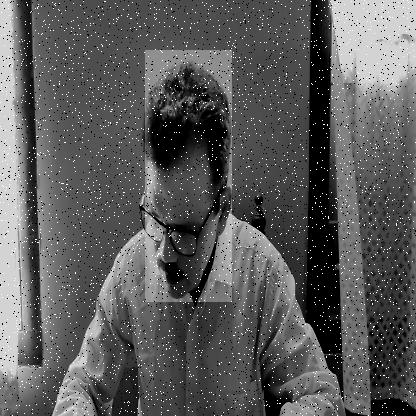Distracted: (145, 50, 232, 302)
